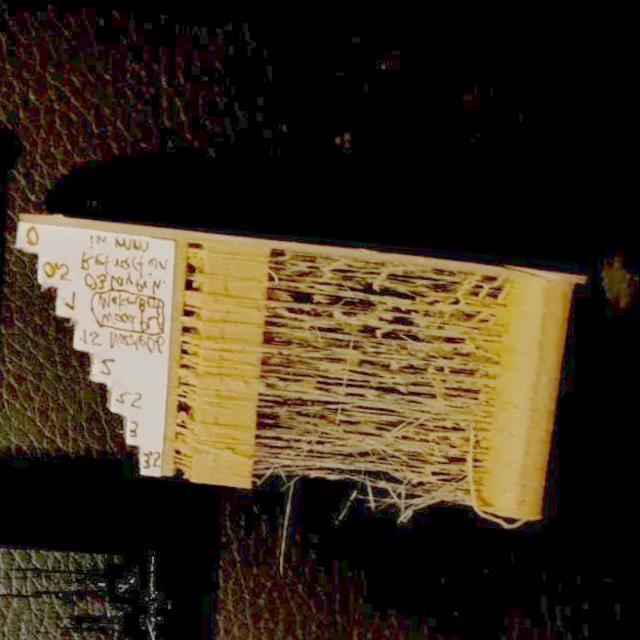stringing: (253, 238, 518, 504)
